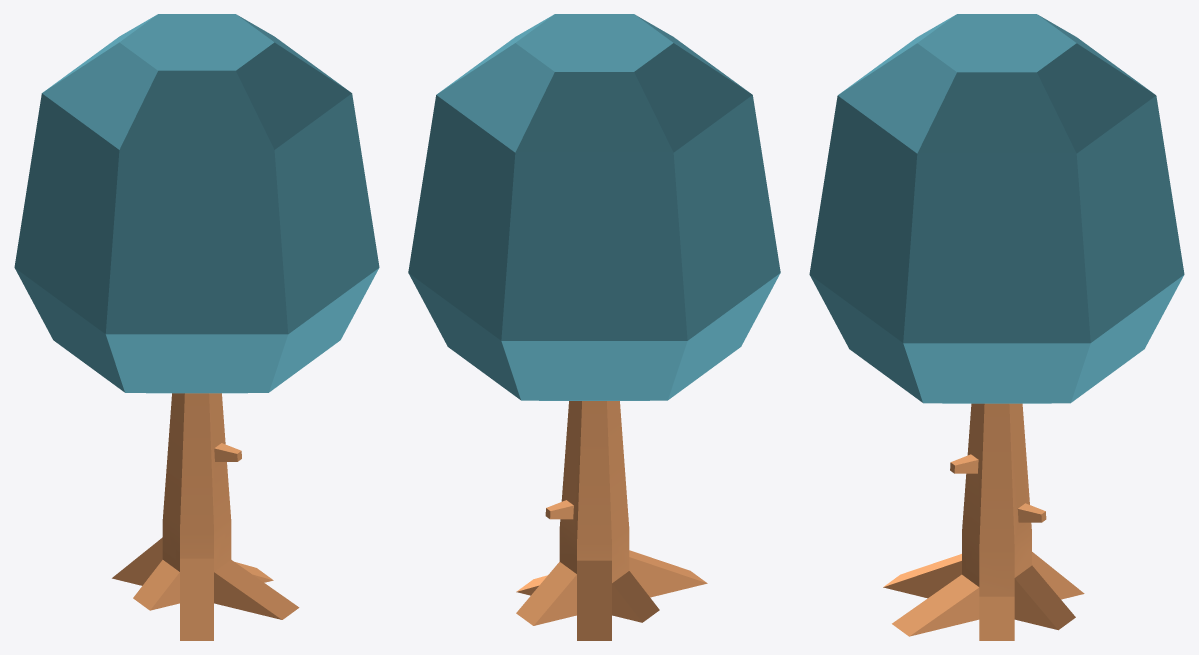
Rendered from tree_oak_dark.obj.
The picture shows the model from 3 angles, left to right: view 1: azimuth 30°, elevation 25°; view 2: azimuth 150°, elevation 25°; view 3: azimuth 270°, elevation 25°; orthographic projection. The views are drawn at different scales.
Parts seen in each view (by area): view 1: tree_oak_dark; view 2: tree_oak_dark; view 3: tree_oak_dark.
Boxes of the visible parts, x1,y1,x2,y2 form: tree_oak_dark: (14,14,379,640); tree_oak_dark: (408,14,780,640); tree_oak_dark: (809,14,1184,640).
Size of the model in its own units: 6.41 by 12.26 by 7.4.
